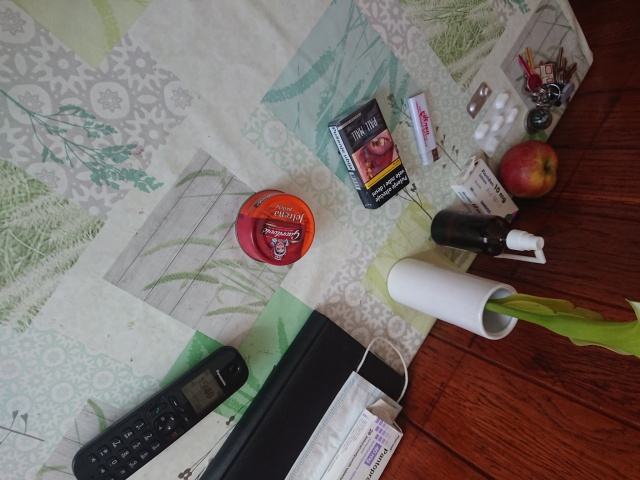Gavrilovic Pork Liver Pate 100g: (232, 186, 318, 268)
